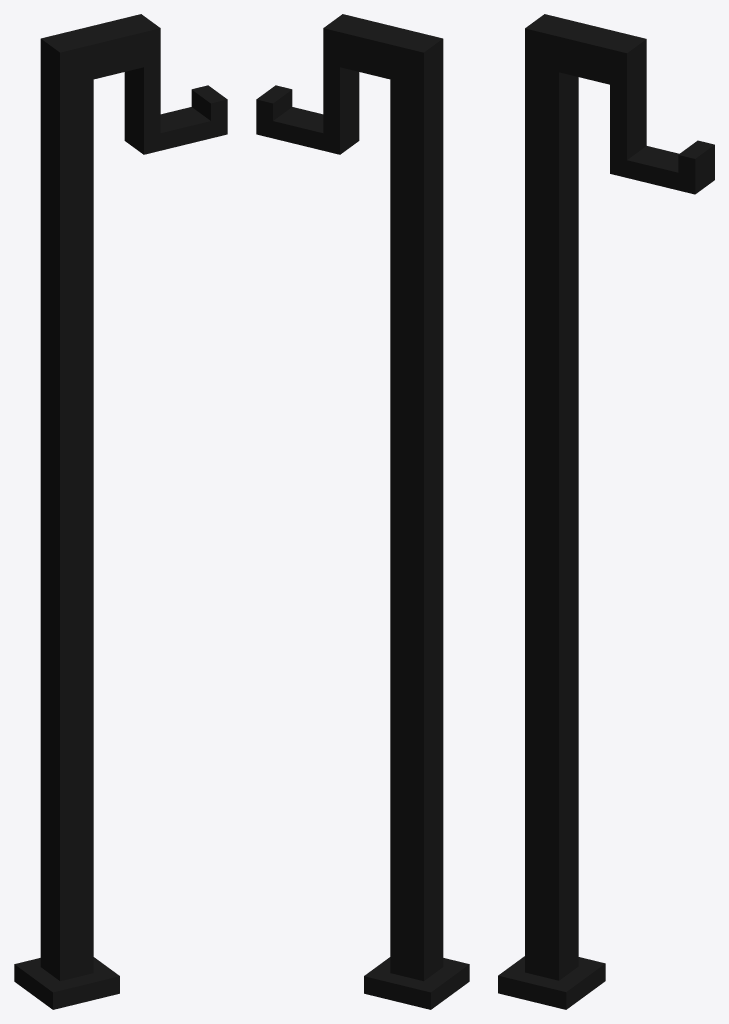
Rendered from Lantern 2-1-Post.obj.
3 views of the same model, side by side, from view 1: azimuth 30°, elevation 25°; view 2: azimuth 150°, elevation 25°; view 3: azimuth 330°, elevation 25° (orthographic).
Parts seen in each view (by area): view 1: Post; view 2: Post; view 3: Post.
Part boxes in pixels (box(x1,y1,x2,y2)): Post: box(14, 14, 227, 1009); Post: box(256, 14, 469, 1009); Post: box(498, 14, 714, 1009).
Bounding box in the file's own units: 1.1 × 5.4 × 0.4.
1 material, 1 textured.
